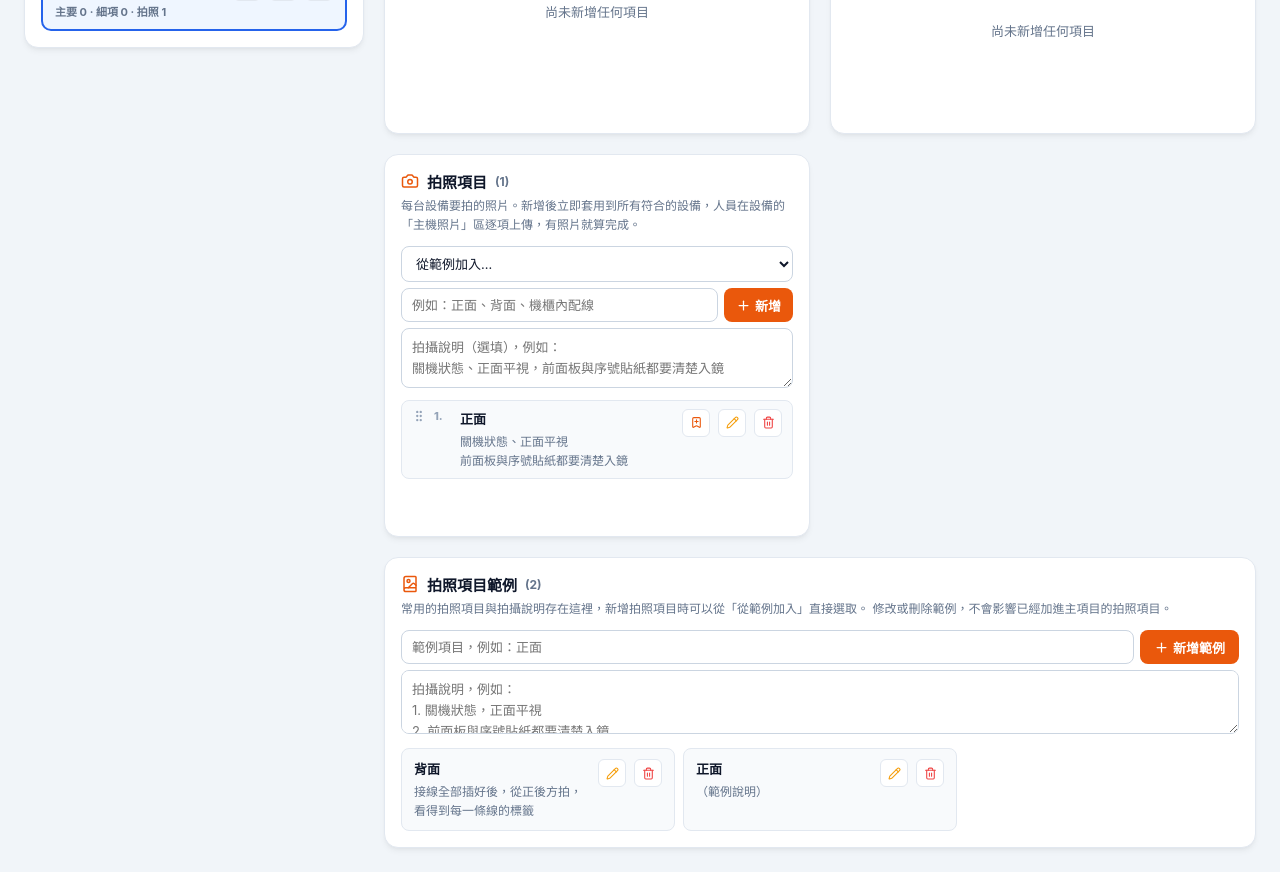
拍照項目範例庫 › 新增範例
(page scrolled)
Expected: the heading "拍照項目" is shown, [427,171,487,192]
Expected: the field named "拍照項目名稱" is enabled, [401,288,718,322]
Type "側面" into the field named "範例項目名稱".
click(768, 647); type("側面")  # box [401,630,1134,664]
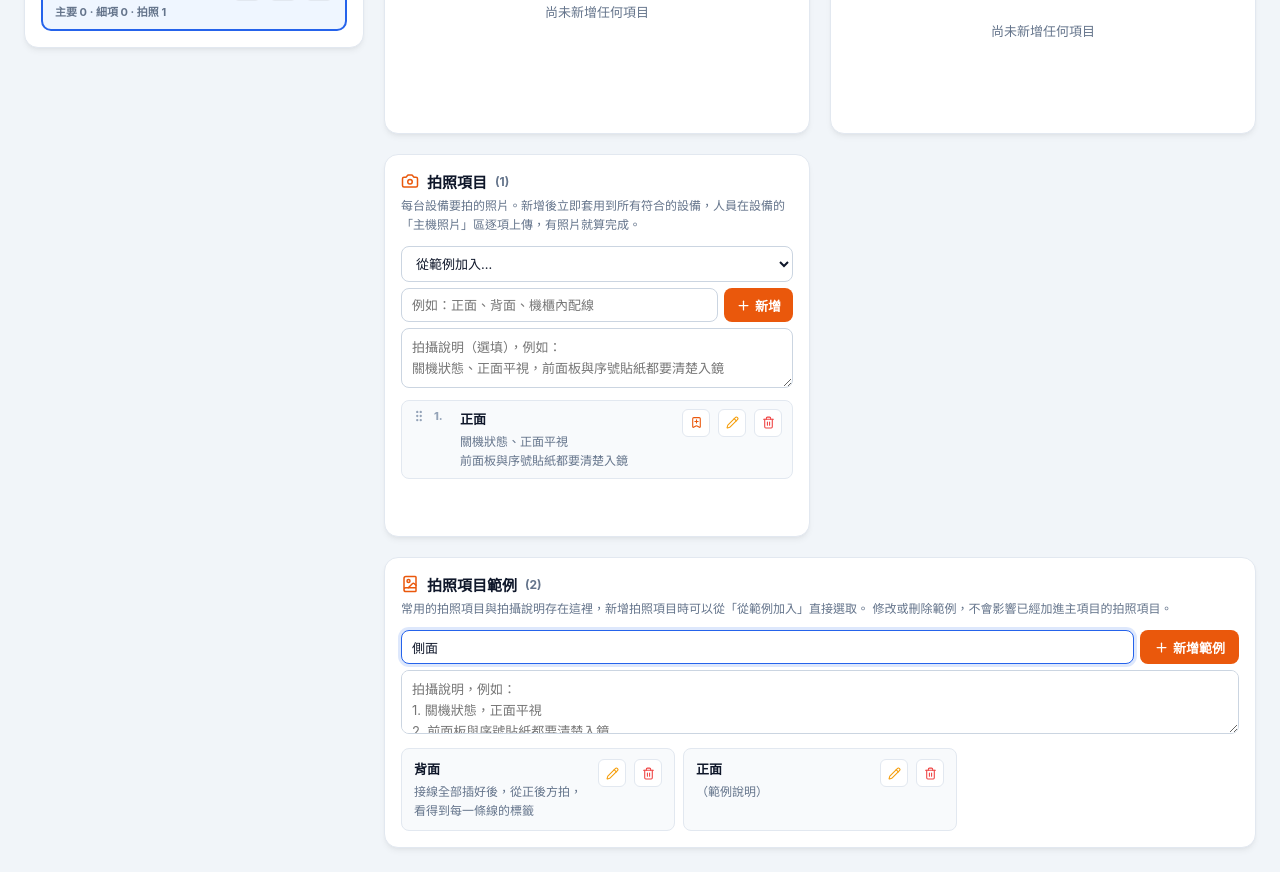
Type "左側，看得到散熱孔" into the text box named "範例說明".
click(820, 702); type("左側，看得到散熱孔")  # box [401,670,1239,734]
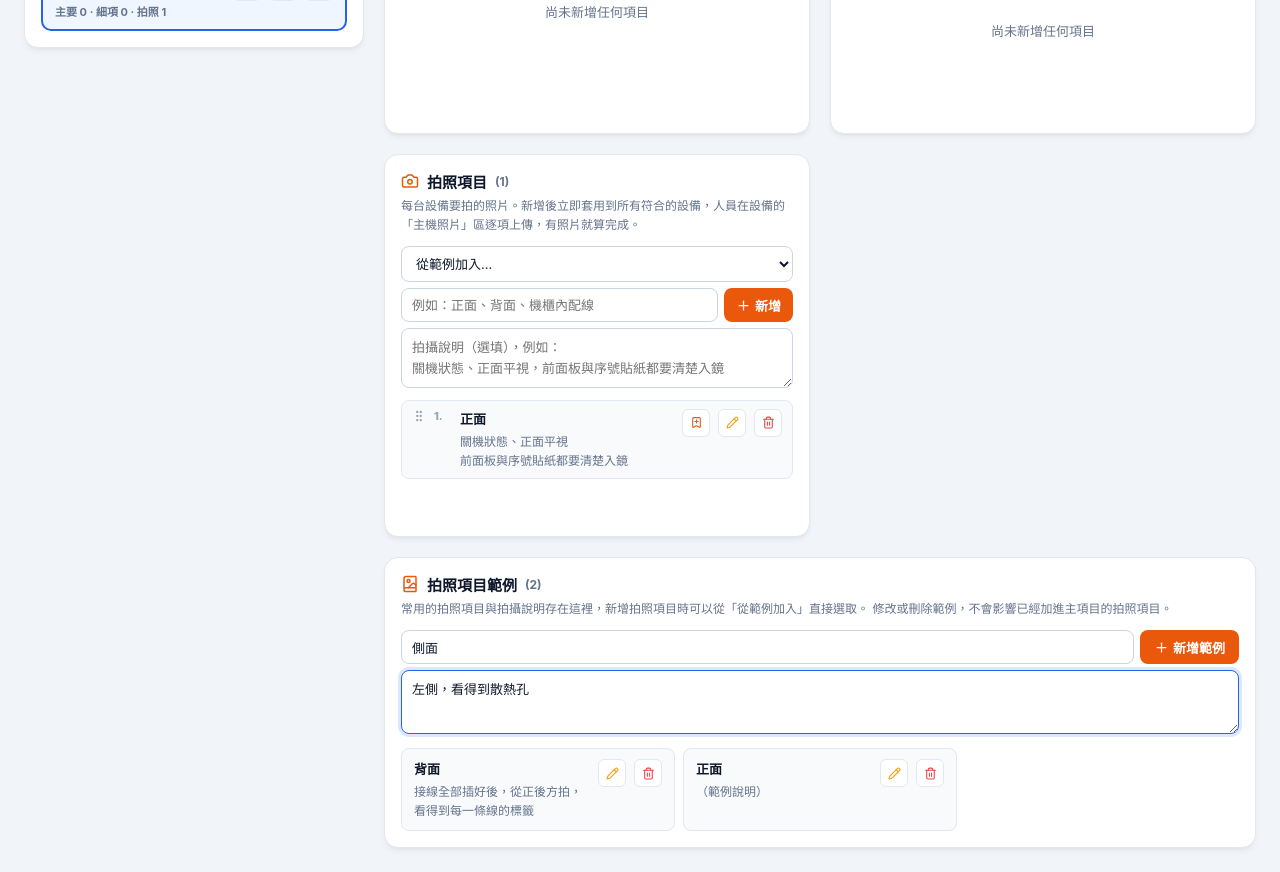
Click the button "新增範例".
click(1190, 647)  # box [1140,630,1239,664]
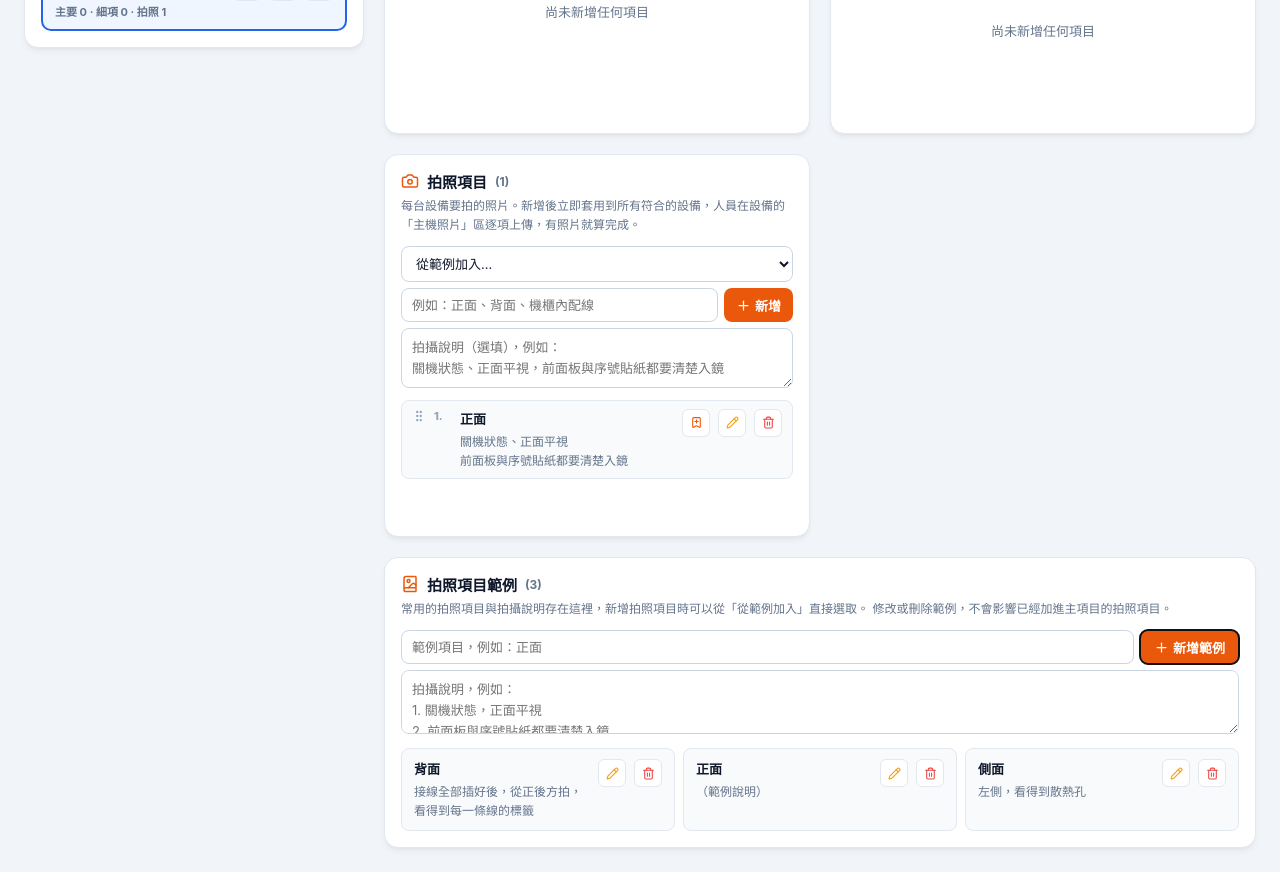
Expected: the text "側面" is shown, [978,761,1004,777]
